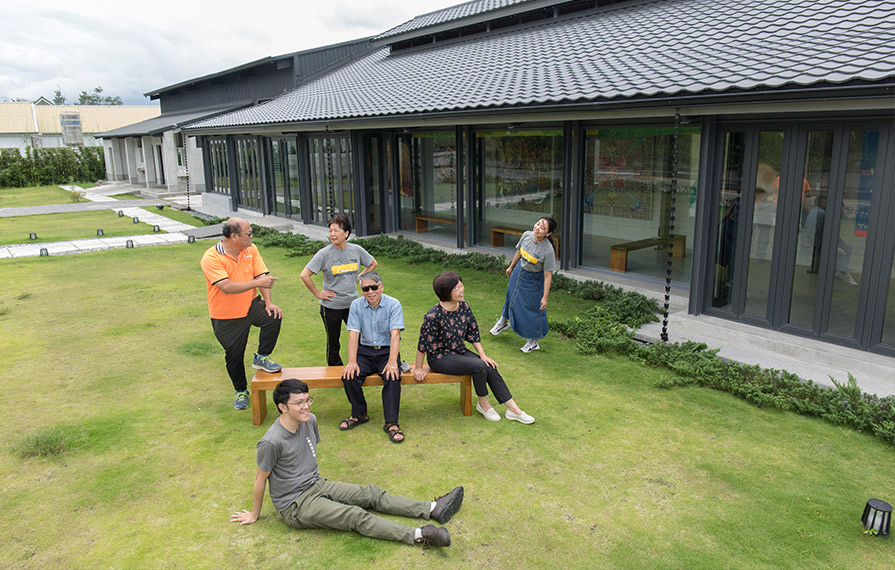people: (259, 382, 459, 544), (422, 274, 536, 427), (205, 215, 278, 408), (343, 272, 407, 446), (307, 220, 374, 361), (496, 217, 551, 356)
